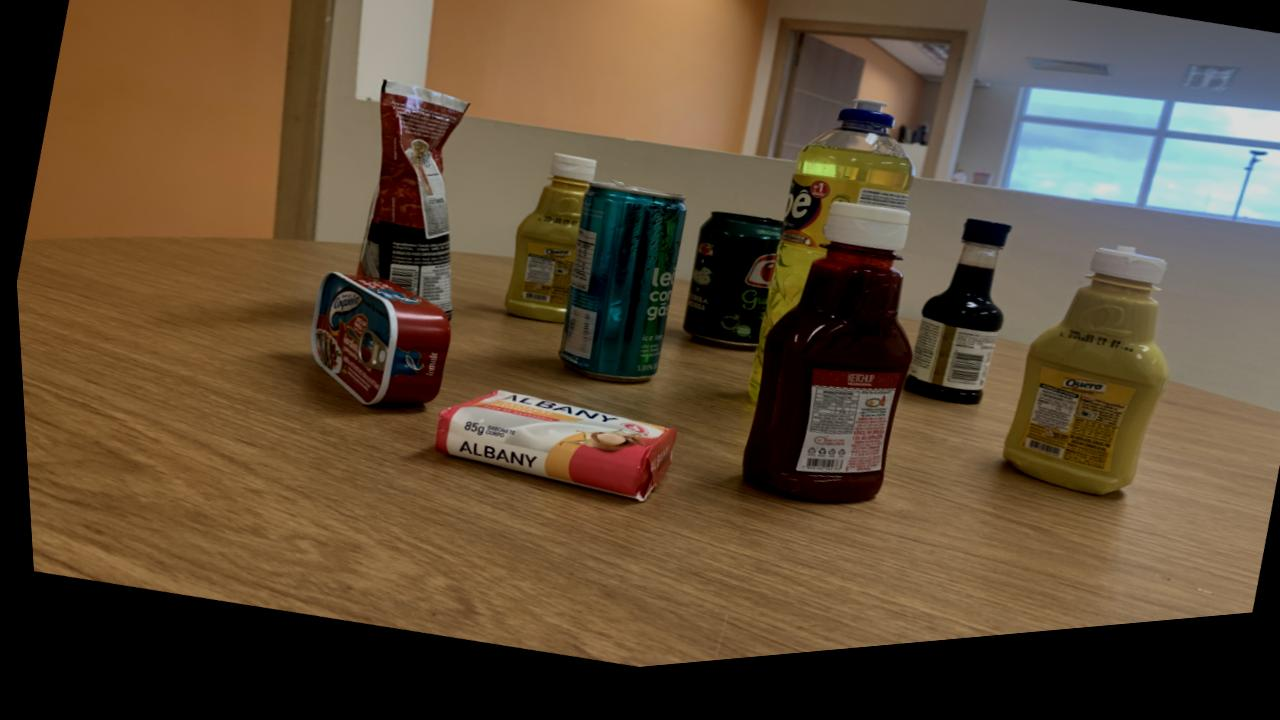Detergent-Cleanup_Items: (743, 115, 911, 414)
English_Sauce-Pantry_Items: (898, 236, 1006, 422)
Guarana_Can-Drinks: (678, 225, 779, 362)
Ketchup-Pantry_Items: (735, 217, 907, 518)
Mustard-Pantry_Items: (996, 266, 1163, 515), (500, 163, 594, 333)
Soap-Cleanup_Items: (429, 399, 669, 512)
Tea-Drinks: (553, 193, 683, 394)
Tomato_Sauce-Pantry_Items: (354, 89, 466, 327)
Tuna_Can-Pantry_Items: (305, 278, 446, 412)
